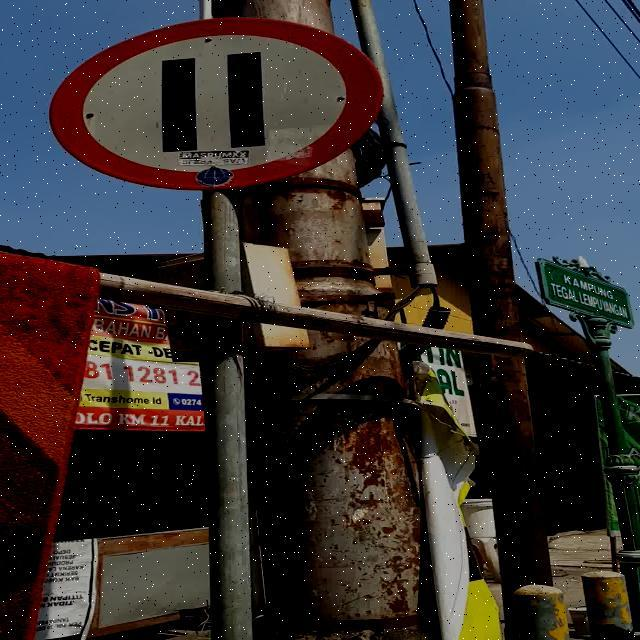Larangan Muatan - 10 ton: (49, 18, 383, 189)
